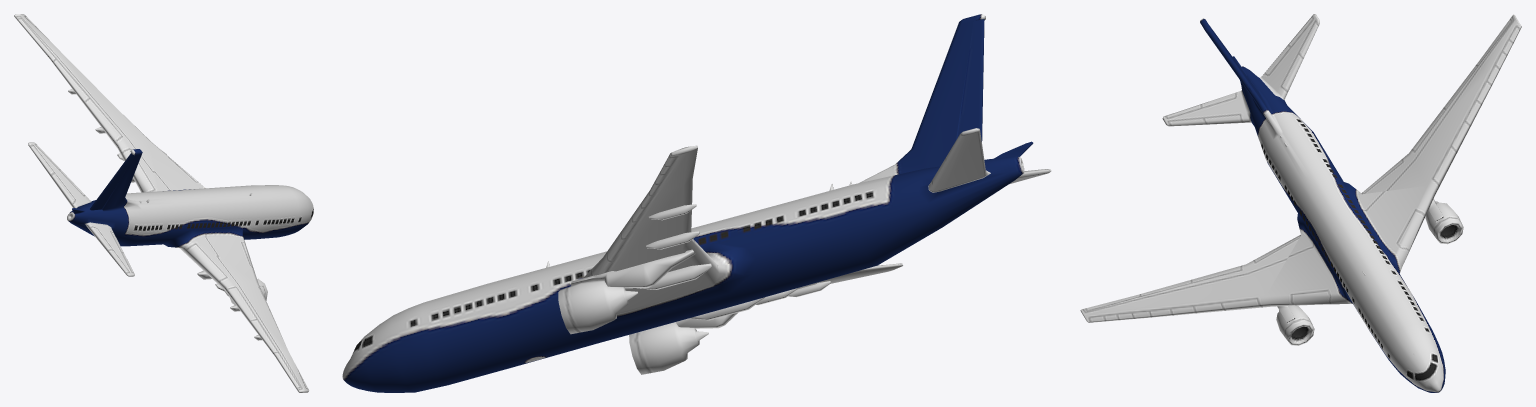
File: AModel.glb
3 renders of one model, left to right at view 1: azimuth 30°, elevation 25°; view 2: azimuth 150°, elevation 25°; view 3: azimuth 270°, elevation 25°, orthographic. The views are drawn at different scales.
Visible parts, largest first — view 1: plane:plane1:plane; view 2: plane:plane1:plane; view 3: plane:plane1:plane.
Part boxes in pixels (left/top/right/bottom): plane:plane1:plane: left=14, top=14, right=313, bottom=392; plane:plane1:plane: left=342, top=14, right=1051, bottom=392; plane:plane1:plane: left=1080, top=14, right=1521, bottom=392.
Bounding box in the file's own units: 0.0502 × 0.0354 × 0.054.
1 material, 1 textured.
